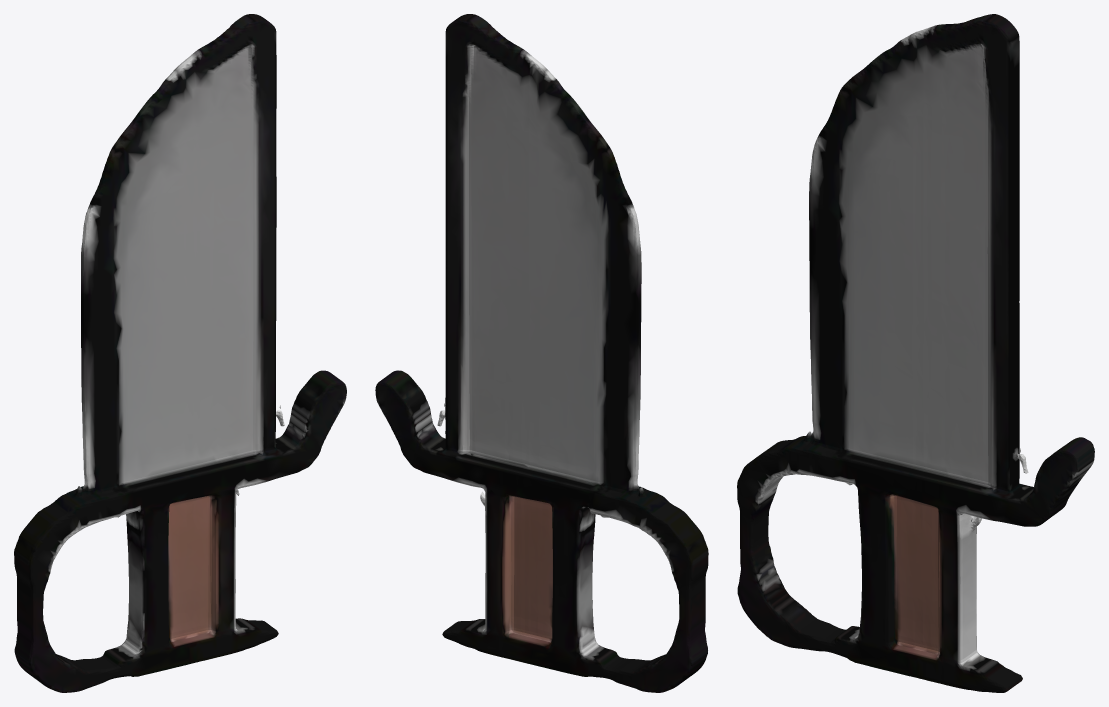
Rendered from butterflysword_1.glb.
3 renders of one model, left to right at view 1: azimuth 30°, elevation 25°; view 2: azimuth 150°, elevation 25°; view 3: azimuth 330°, elevation 25°, orthographic. The views are drawn at different scales.
Parts seen in each view (by area): view 1: geometry_0; view 2: geometry_0; view 3: geometry_0.
Boxes of the visible parts, x1,y1,x2,y2 form: geometry_0: (14, 14, 346, 692); geometry_0: (375, 14, 708, 692); geometry_0: (737, 14, 1094, 692).
Size of the model in its own units: 0.4319 by 0.8125 by 0.0411.
